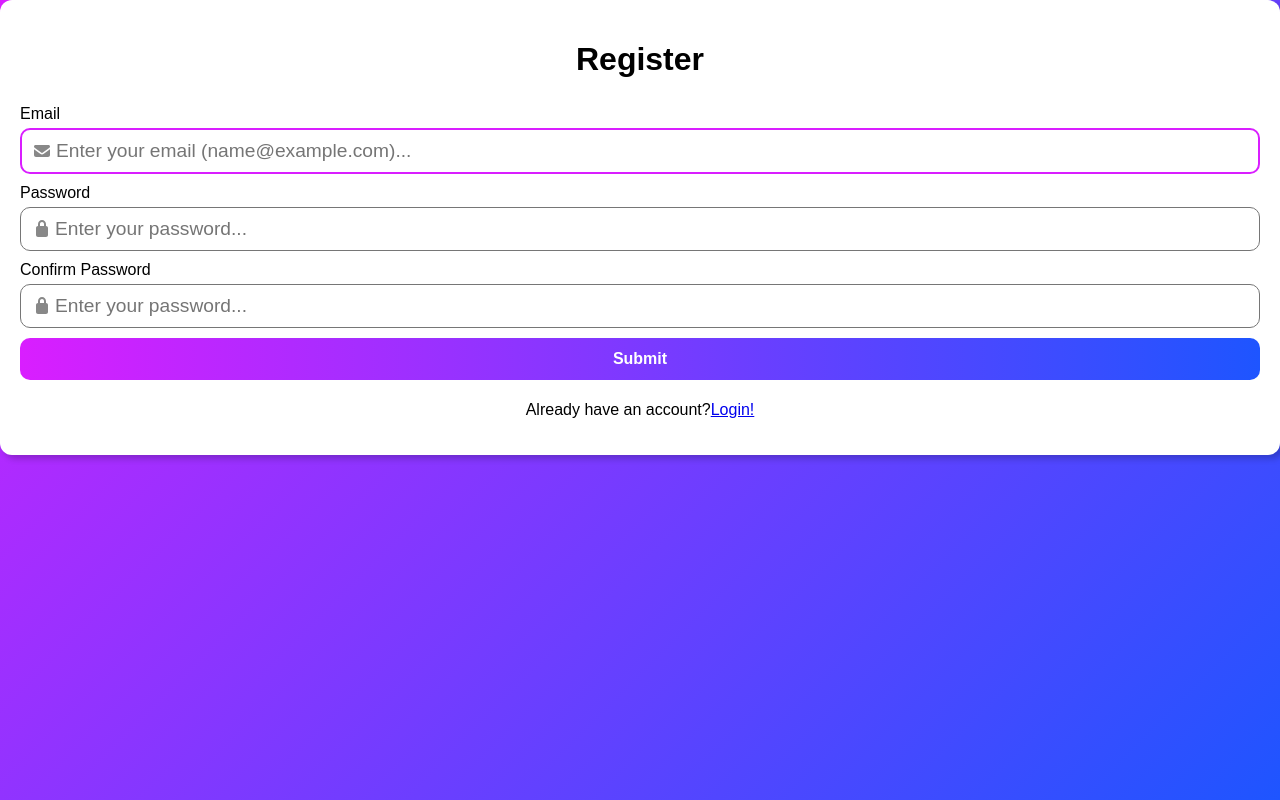
it: SignUp › shows the server error message when registration fails
Type "user@example.com" into the field labelled "Email" at (640, 151), box x1=20 y1=128 x2=1260 y2=174
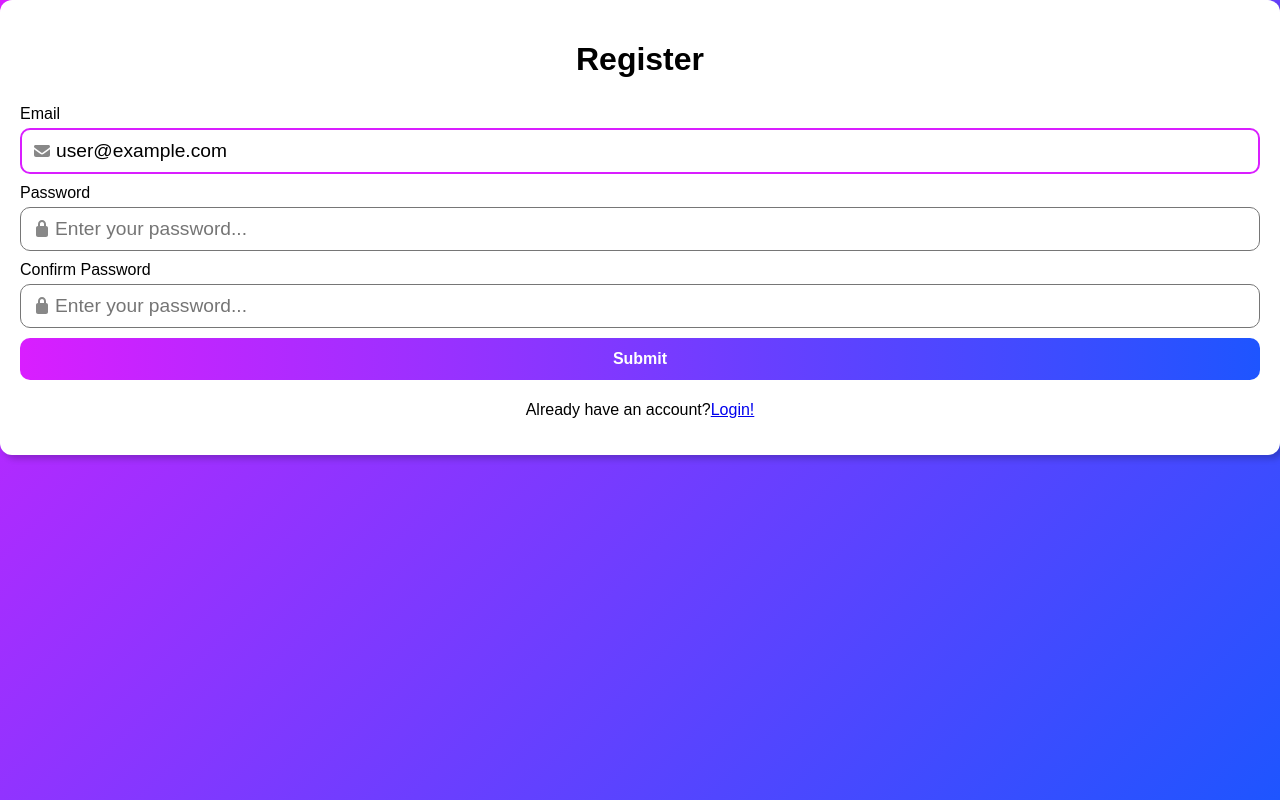
Type "Str0ng@Pass" into the password field labelled "Password" at (640, 229), box x1=20 y1=207 x2=1260 y2=251
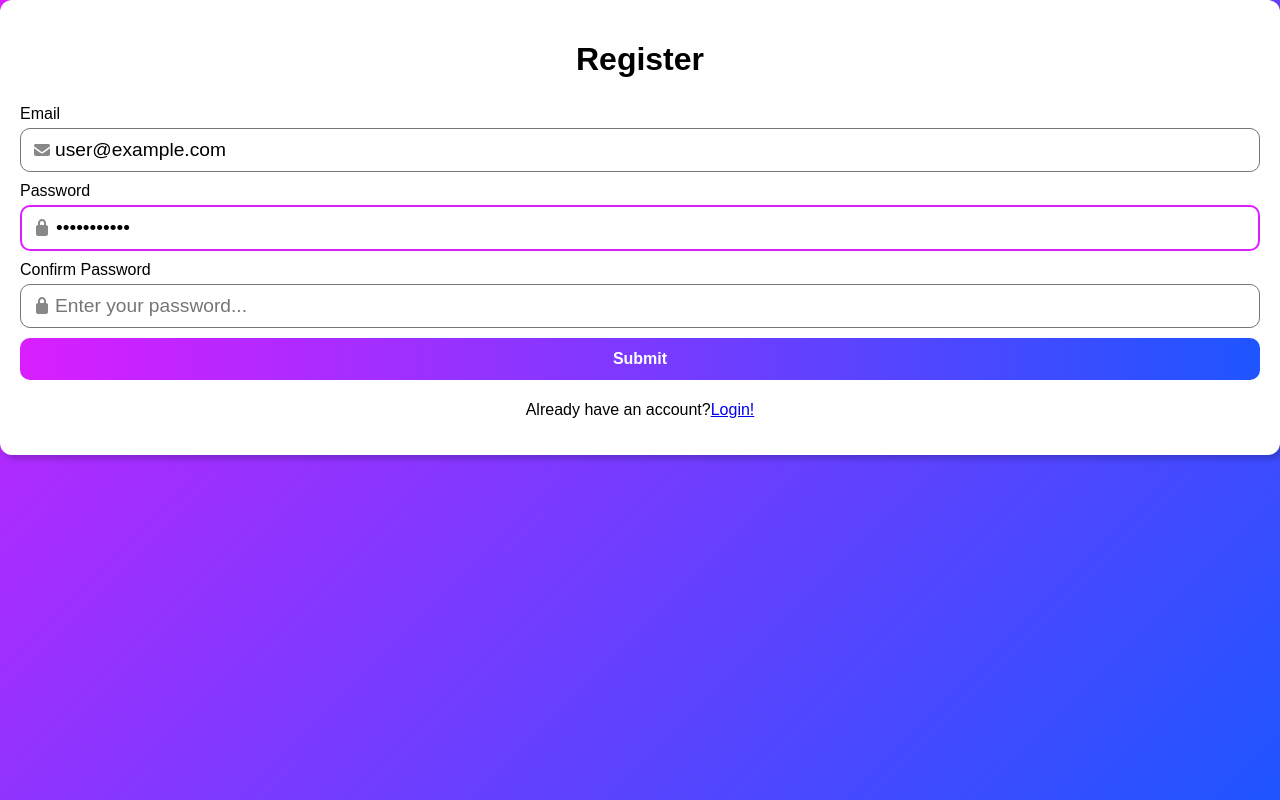
Type "Str0ng@Pass" into the password field labelled "Confirm Password" at (640, 306), box x1=20 y1=284 x2=1260 y2=328
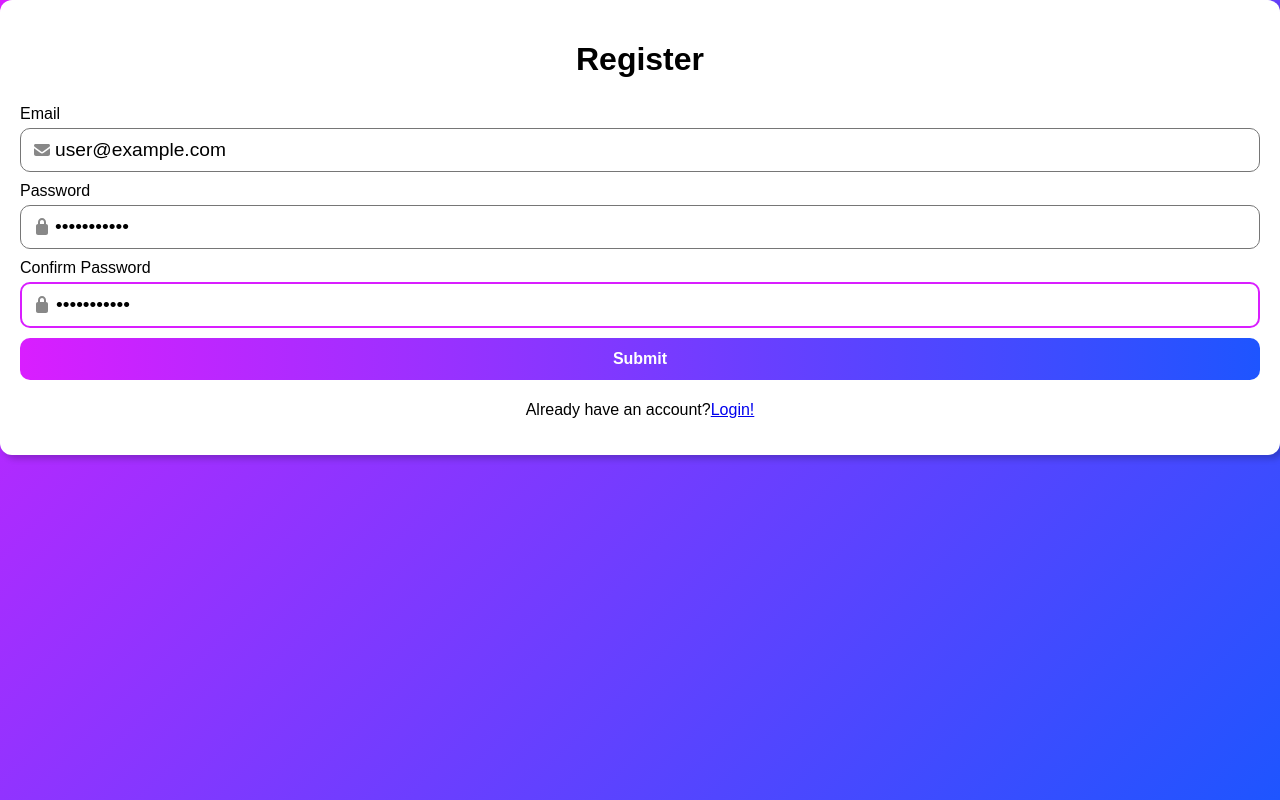
Click the button "Submit" at (640, 359), box x1=20 y1=338 x2=1260 y2=380
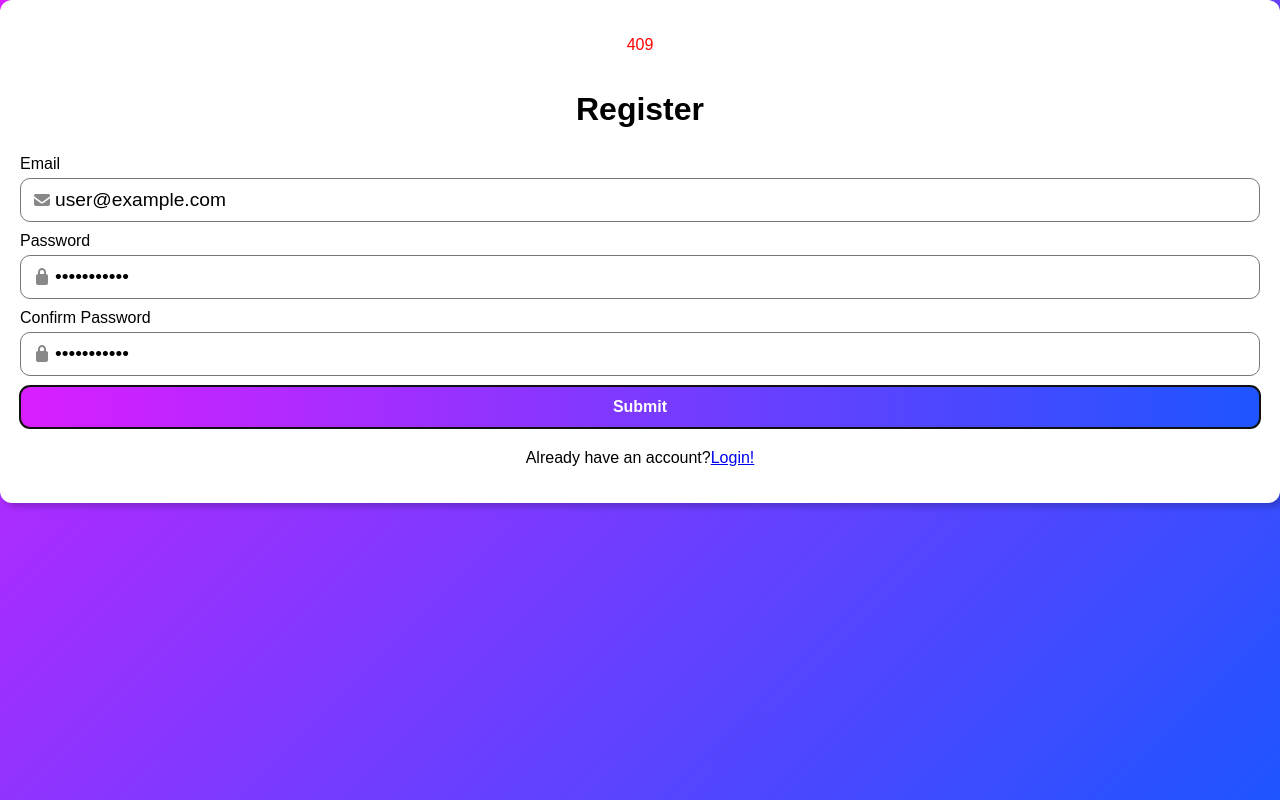
Now the text "409" is shown, box x1=627 y1=36 x2=653 y2=54
